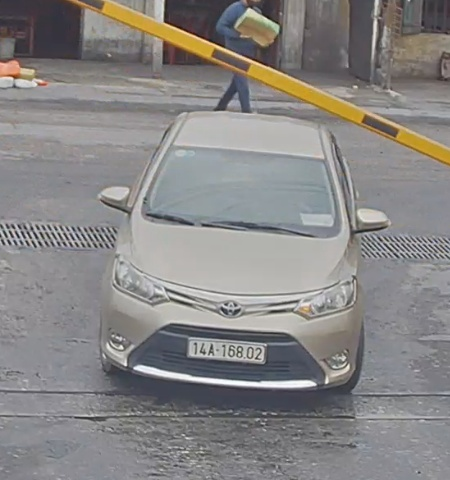vehicle plate: (182, 331, 273, 364)
